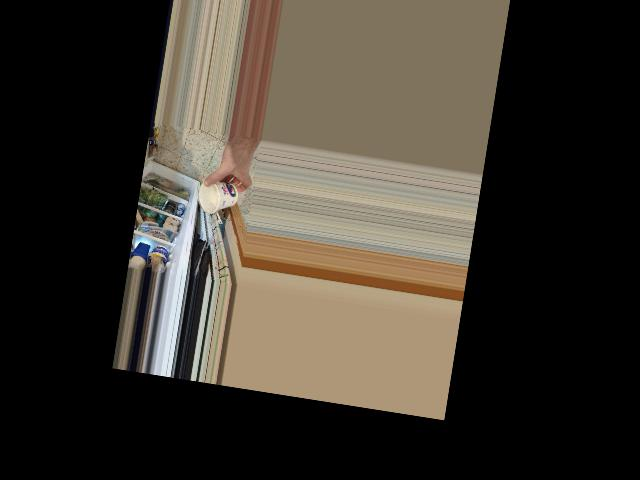cotage: (200, 179, 236, 219)
